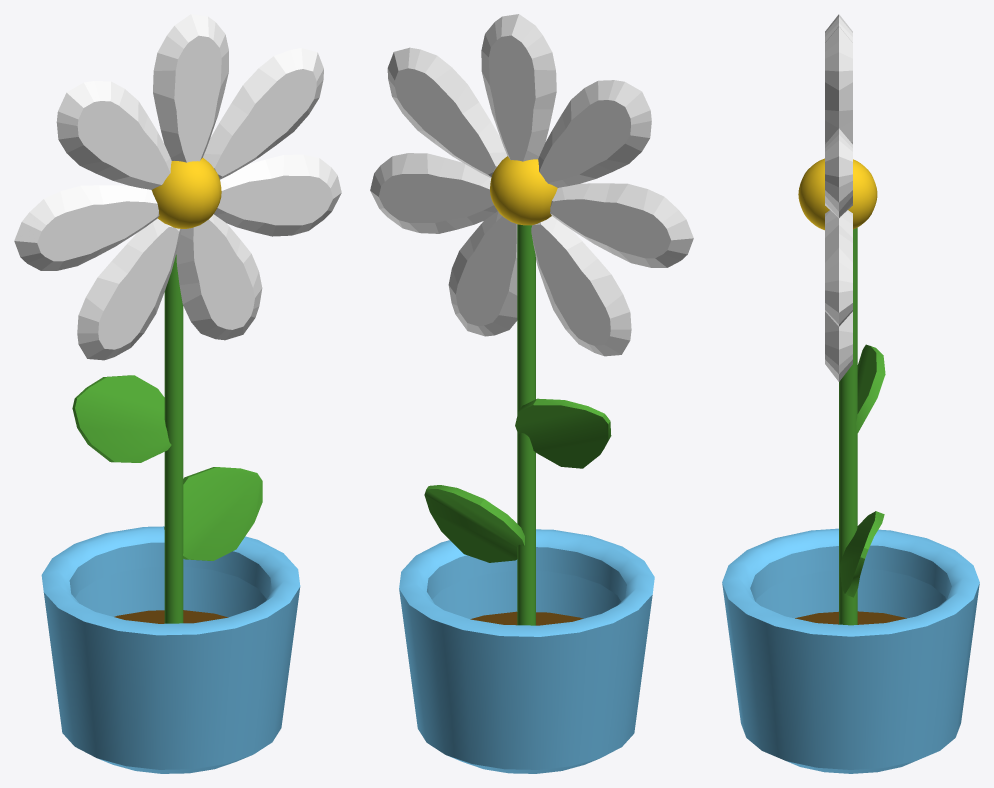
The picture shows the model from 3 angles, left to right: view 1: azimuth 30°, elevation 25°; view 2: azimuth 150°, elevation 25°; view 3: azimuth 270°, elevation 25°; orthographic projection.
Parts seen in each view (by area): view 1: polySurface11, pCylinder1, pCylinder2, polySurface13, polySurface12, pSphere1; view 2: polySurface11, pCylinder1, pCylinder2, polySurface13, polySurface12, pSphere1; view 3: pCylinder1, polySurface11, pCylinder2, pSphere1, polySurface12, polySurface13.
Part boxes in pixels (x1,y1,x2,y2): polySurface11: (14, 14, 341, 360); pCylinder1: (41, 526, 300, 773); pCylinder2: (164, 254, 183, 623); polySurface13: (72, 375, 171, 462); polySurface12: (164, 467, 262, 560); pSphere1: (151, 158, 221, 228); polySurface11: (370, 14, 693, 356); pCylinder1: (399, 529, 654, 773); pCylinder2: (517, 224, 535, 625); polySurface13: (515, 398, 611, 468); polySurface12: (424, 485, 524, 562); pSphere1: (490, 156, 557, 225); pCylinder1: (722, 528, 979, 773); polySurface11: (825, 14, 852, 381); pCylinder2: (839, 227, 857, 625); pSphere1: (798, 158, 877, 230); polySurface12: (840, 511, 884, 597); polySurface13: (856, 344, 885, 435).
Size of the model in its own units: 5.85 by 12.35 by 4.02.
